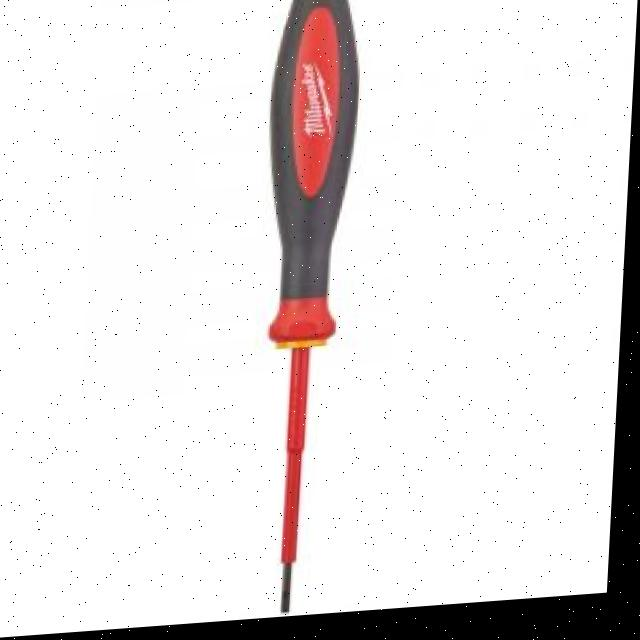Screwdriver: (272, 0, 360, 617)
